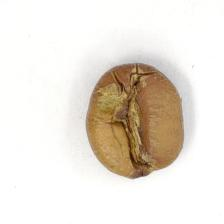NG: (99, 70, 159, 176)
